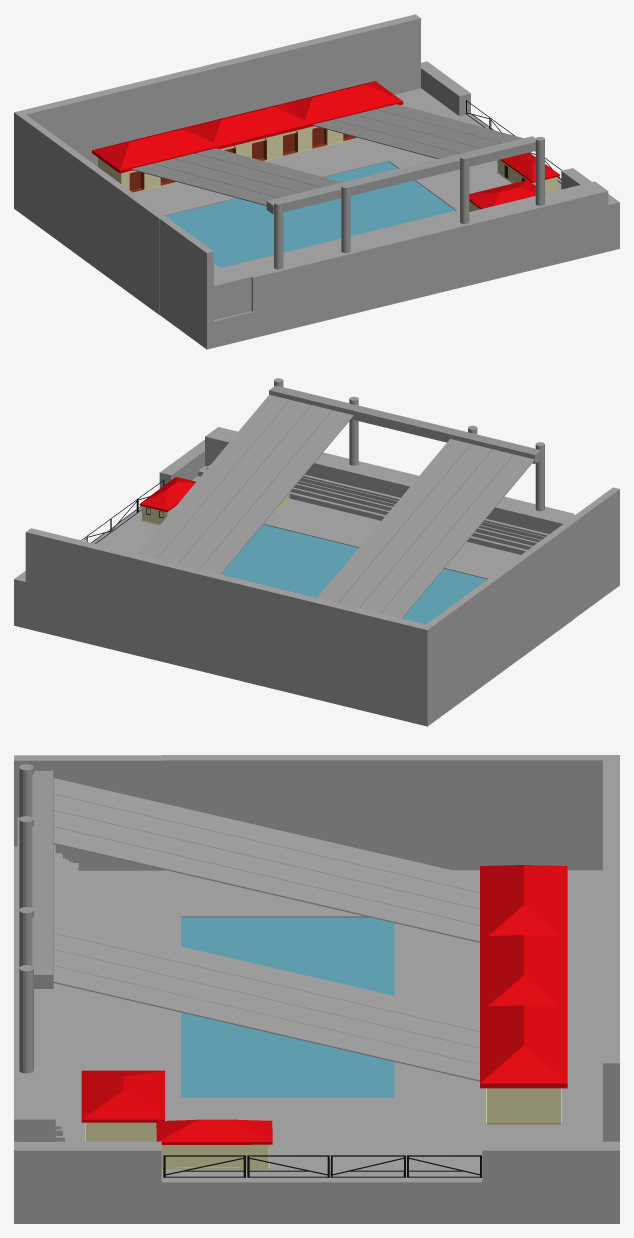
Rendered from pool.fbx.
The picture shows the model from 3 angles, top to bottom: view 1: azimuth 30°, elevation 25°; view 2: azimuth 150°, elevation 25°; view 3: azimuth 270°, elevation 25°; orthographic projection. The views are drawn at different scales.
Visible parts, largest first — view 1: building_002.002; view 2: building_002.002; view 3: building_002.002.
Boxes of the visible parts, box(x1,y1,x2,y2) form: building_002.002: box(14, 14, 619, 349); building_002.002: box(14, 378, 619, 726); building_002.002: box(14, 755, 619, 1223).
Bounding box in the file's own units: 9623 × 2814 × 7767.
